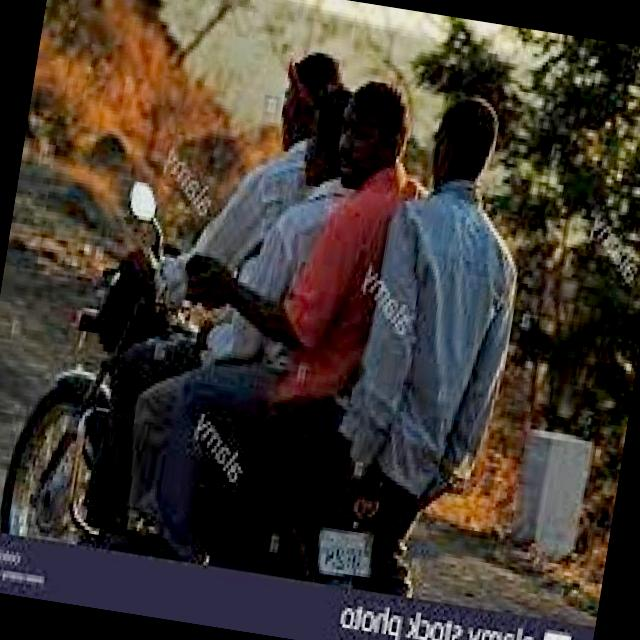motorcycle: (0, 152, 487, 603)
person: (344, 77, 555, 489), (216, 43, 399, 383), (286, 70, 444, 437), (230, 77, 401, 396)
rider_region: (0, 15, 554, 610)
